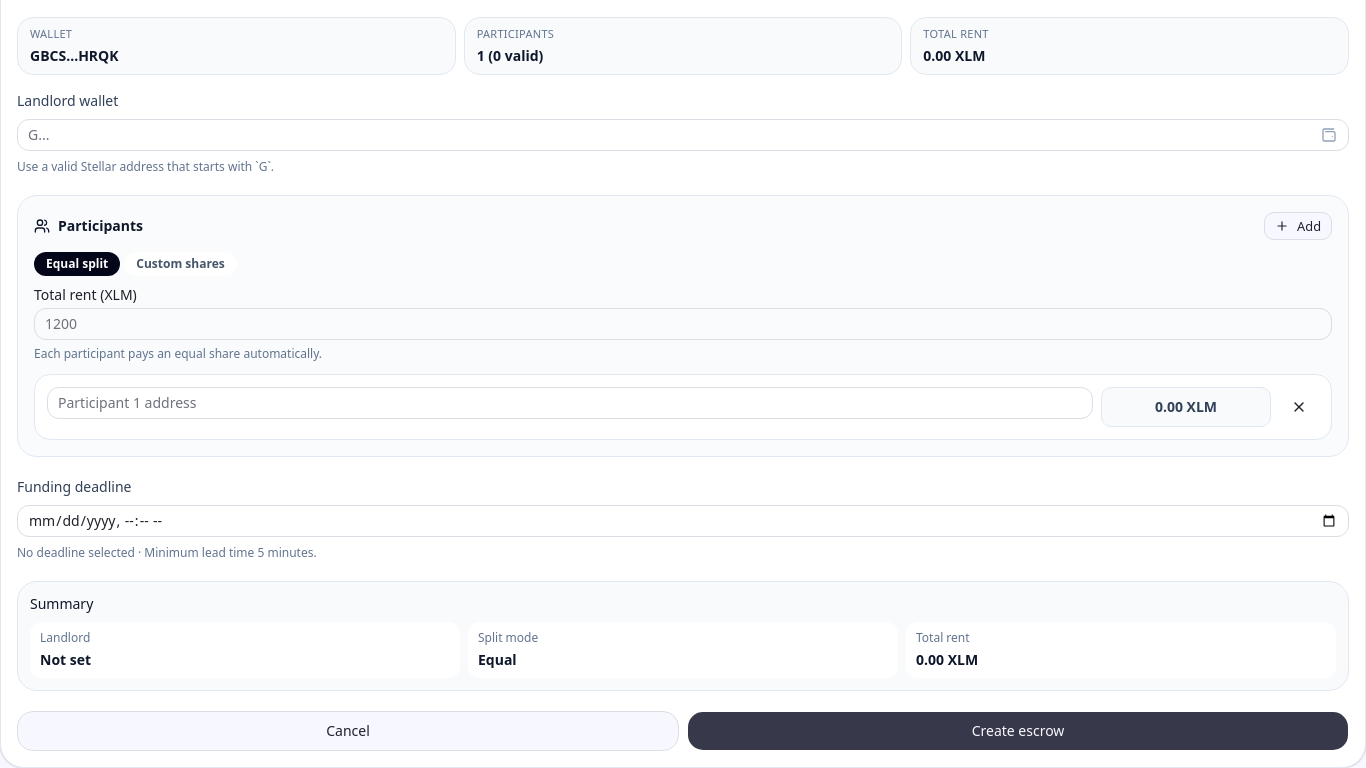
Test: CreateEscrowForm › validates required fields on submit
(page scrolled)
Click the button "Create escrow".
click(1018, 731)  # box 687,711 -> 1349,751
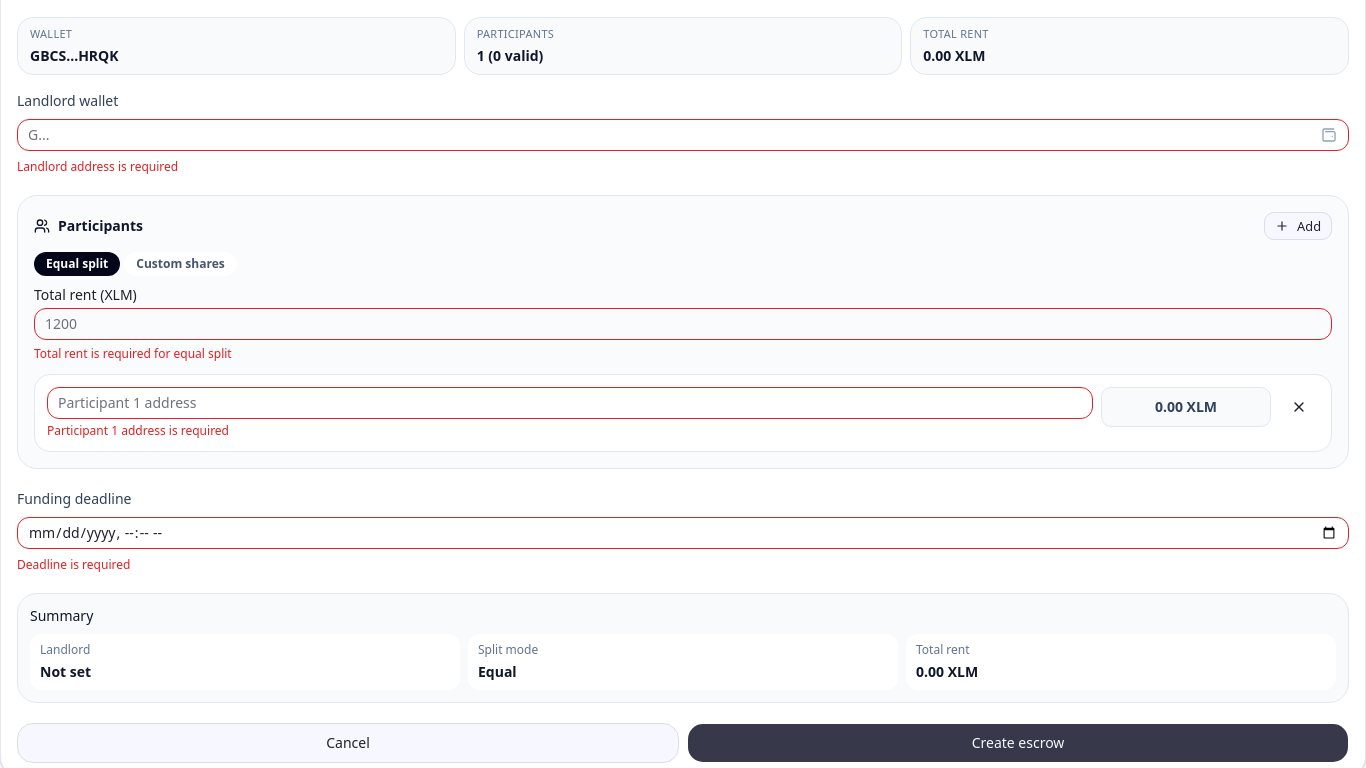
Expected: the text "Landlord address is required" is shown, 17,158 -> 178,175
Expected: the text "Participant 1 address is required" is shown, 47,422 -> 229,439
Expected: the text "Total rent is required for equal split" is shown, 34,345 -> 232,362
